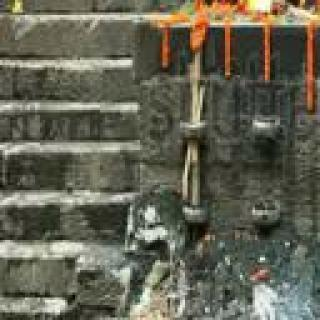fire: (246, 0, 320, 11)
